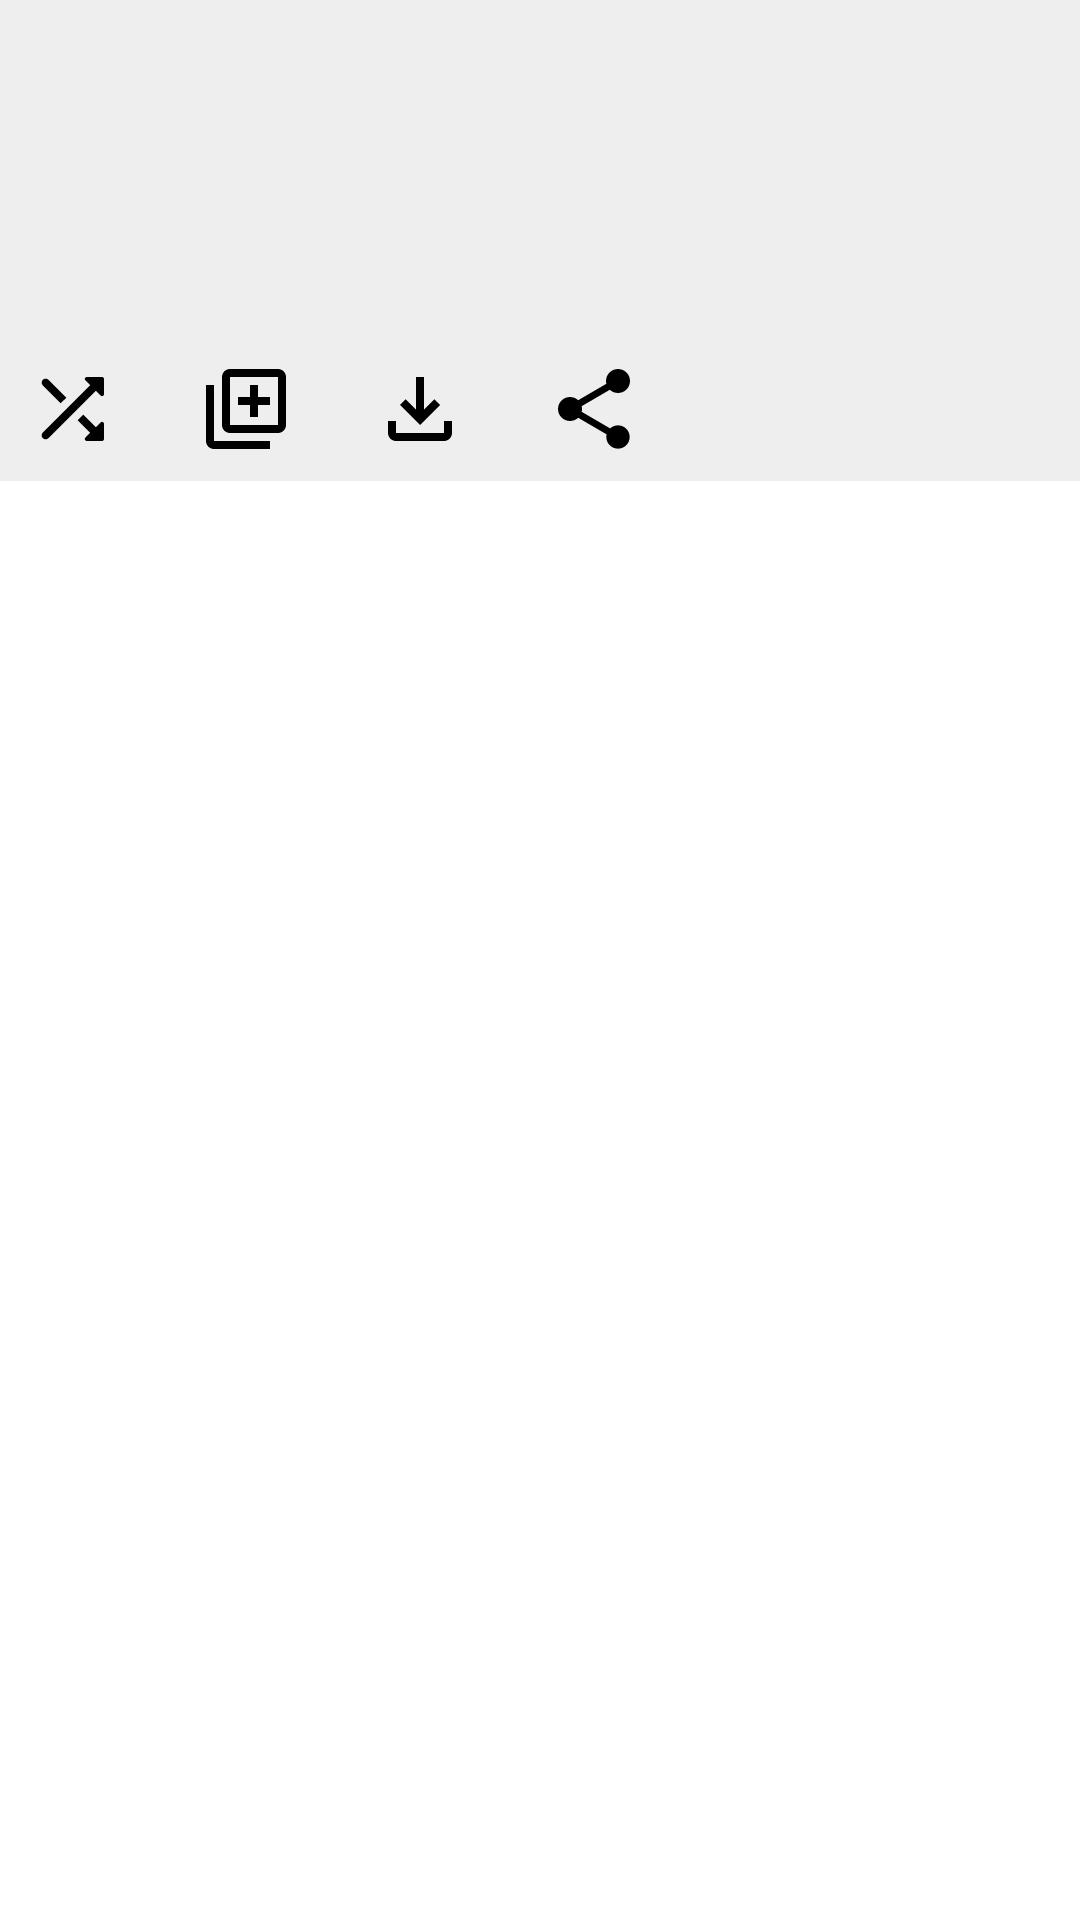

Screen size 1080*1920. Icon name, then its center in pixels as (x,y):
Add to your playlists: (246,409)
Download this playlist: (420,409)
Share this playlist: (594,409)
Shuffle the playlist and start a video: (72,409)
